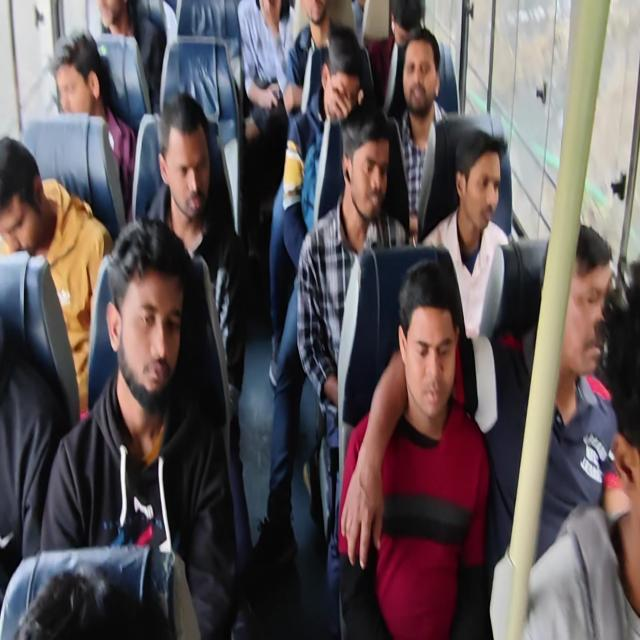person: (542, 238, 610, 378), (401, 268, 461, 422), (120, 252, 179, 401), (0, 130, 55, 252), (158, 111, 210, 223), (454, 139, 505, 233), (51, 36, 105, 114), (348, 125, 391, 220), (320, 50, 358, 122), (403, 38, 438, 109), (386, 0, 425, 53), (92, 0, 136, 32), (253, 0, 289, 29), (300, 0, 332, 24)
